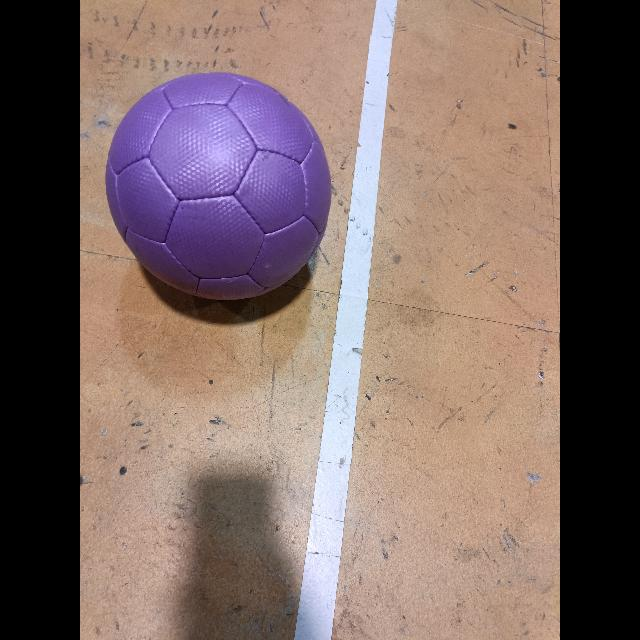P: (105, 72, 331, 300)
